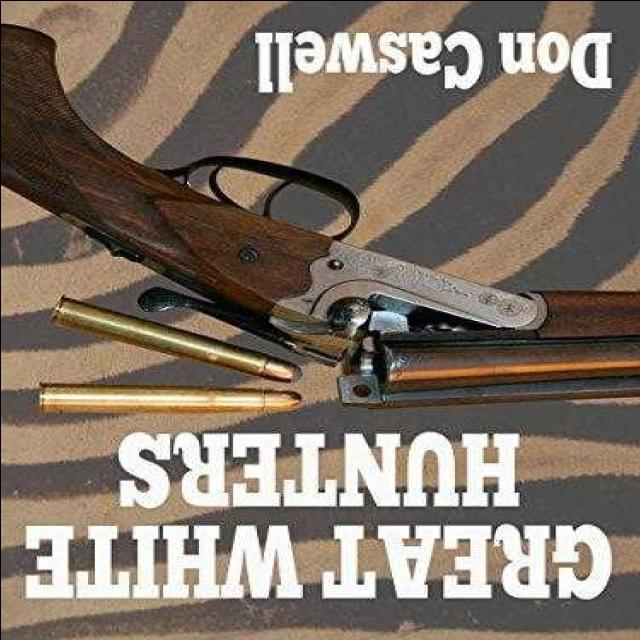heavyweapon: (5, 17, 640, 420)
